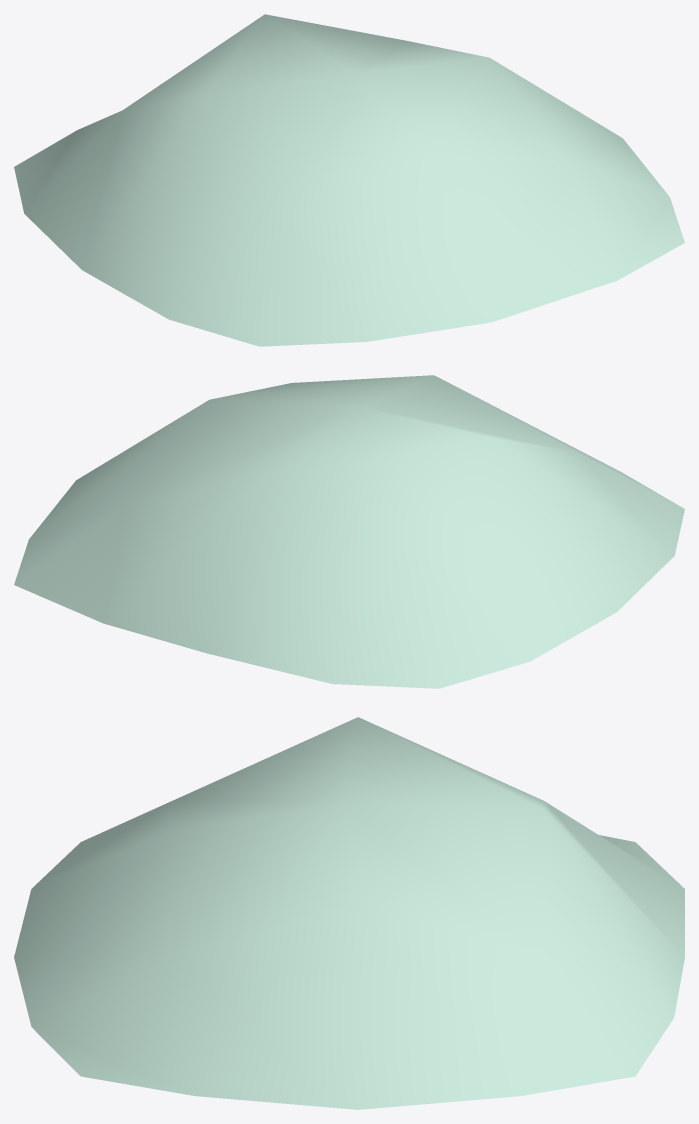
The model's file is snow-pile.glb.
3 renders of one model, top to bottom at view 1: azimuth 30°, elevation 25°; view 2: azimuth 150°, elevation 25°; view 3: azimuth 270°, elevation 25°, orthographic. The views are drawn at different scales.
Parts seen in each view (by area): view 1: SnowPile; view 2: SnowPile; view 3: SnowPile.
Part boxes in pixels (x1=…): SnowPile: x1=14, y1=14, x2=684, y2=346; SnowPile: x1=14, y1=375, x2=684, y2=688; SnowPile: x1=14, y1=717, x2=684, y2=1109.
Size of the model in its own units: 190 by 49.41 by 181.
1 material, 1 textured.
